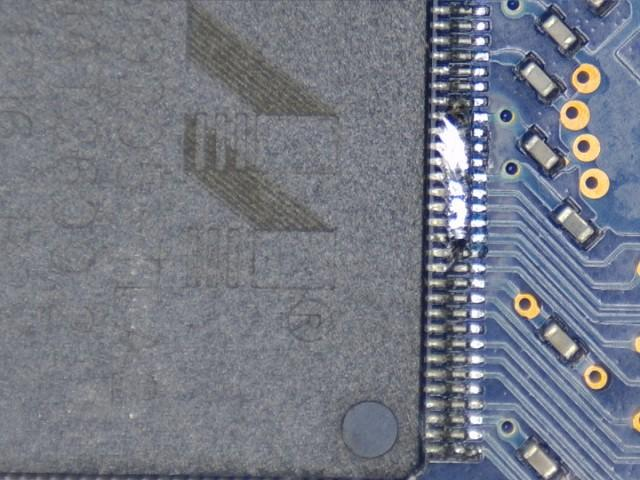Short_circuit: (428, 98, 489, 244)
